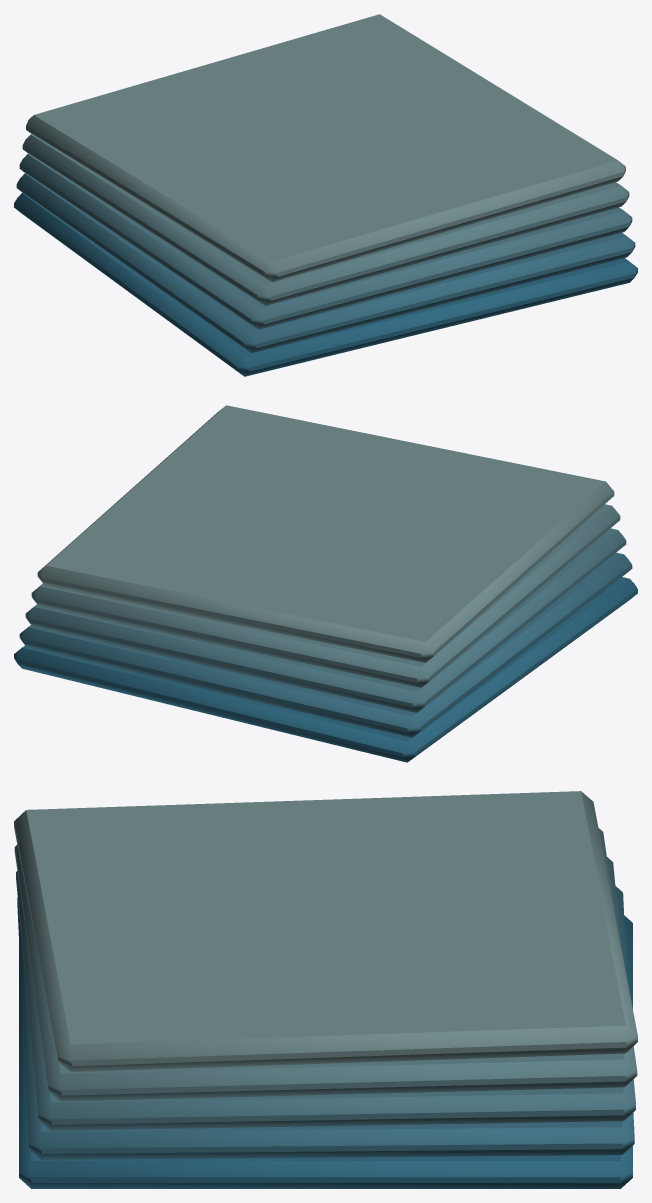
File: mall-scarf-folded.glb
The picture shows the model from 3 angles, top to bottom: view 1: azimuth 30°, elevation 25°; view 2: azimuth 150°, elevation 25°; view 3: azimuth 270°, elevation 25°; orthographic projection. The views are drawn at different scales.
Parts seen in each view (by area): view 1: scarf__fabric; view 2: scarf__fabric; view 3: scarf__fabric.
Part boxes in pixels (x1,y1,x2,y2): scarf__fabric: (14, 14, 637, 376); scarf__fabric: (14, 405, 637, 762); scarf__fabric: (14, 791, 637, 1188).
Bounding box in the file's own units: 0.3048 × 0.079 × 0.3048.
